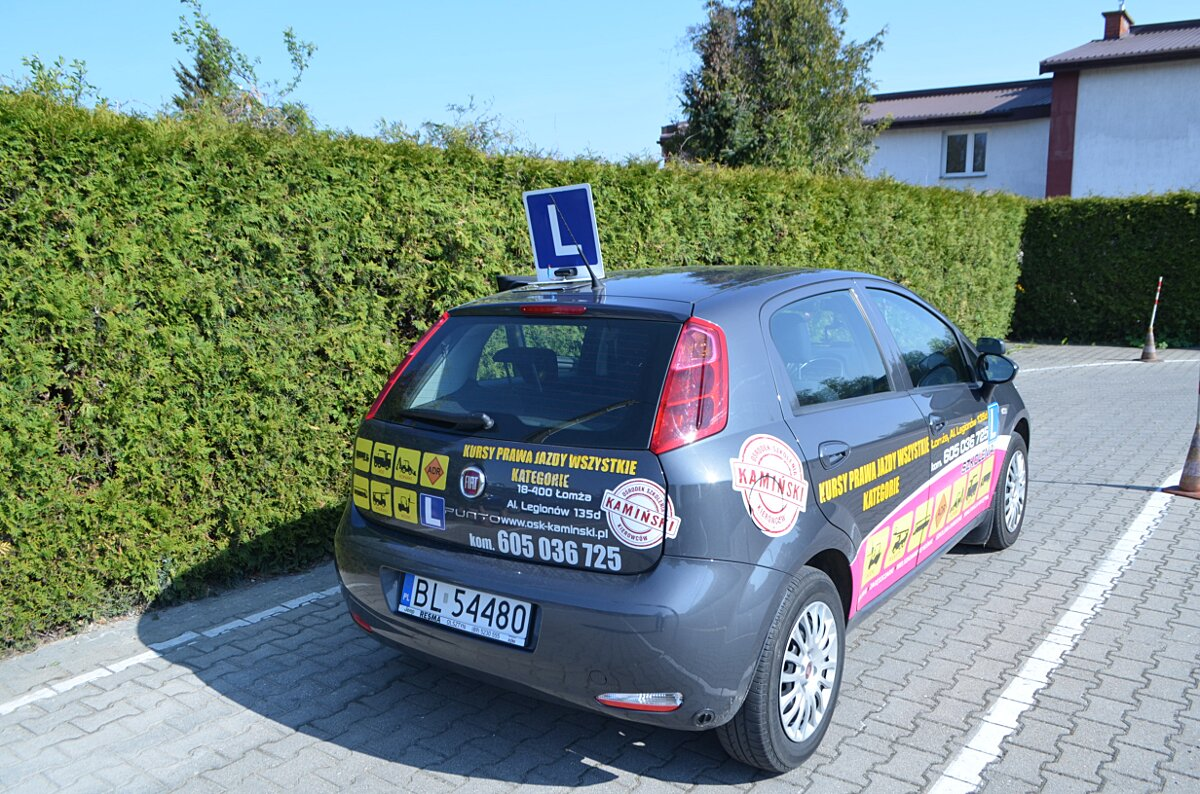tablica: (400, 572, 533, 647)
